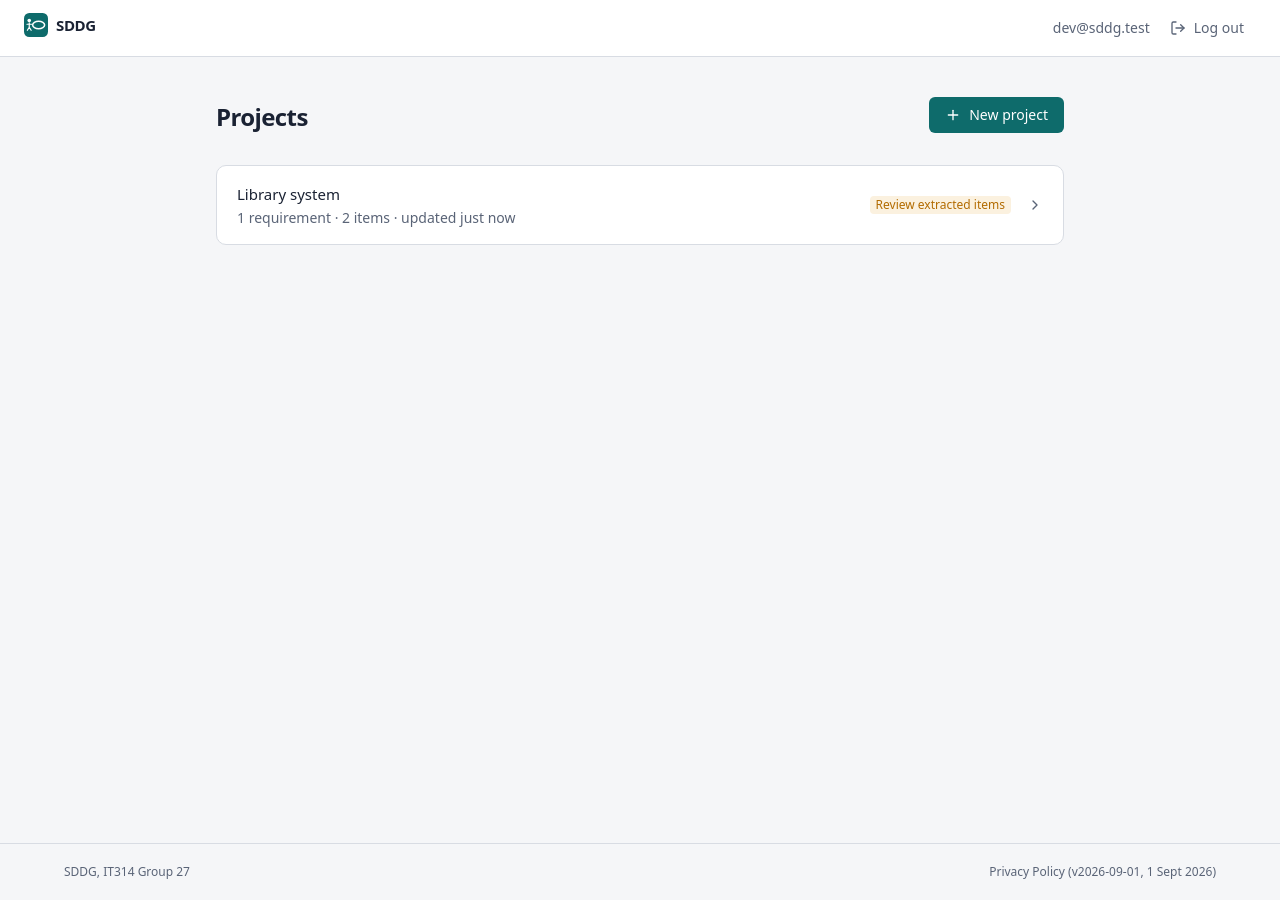
Test: FR3c / FR3a projects › shows the server message for a duplicate name
Click the button "New project" at (997, 115), box x1=929 y1=97 x2=1064 y2=133
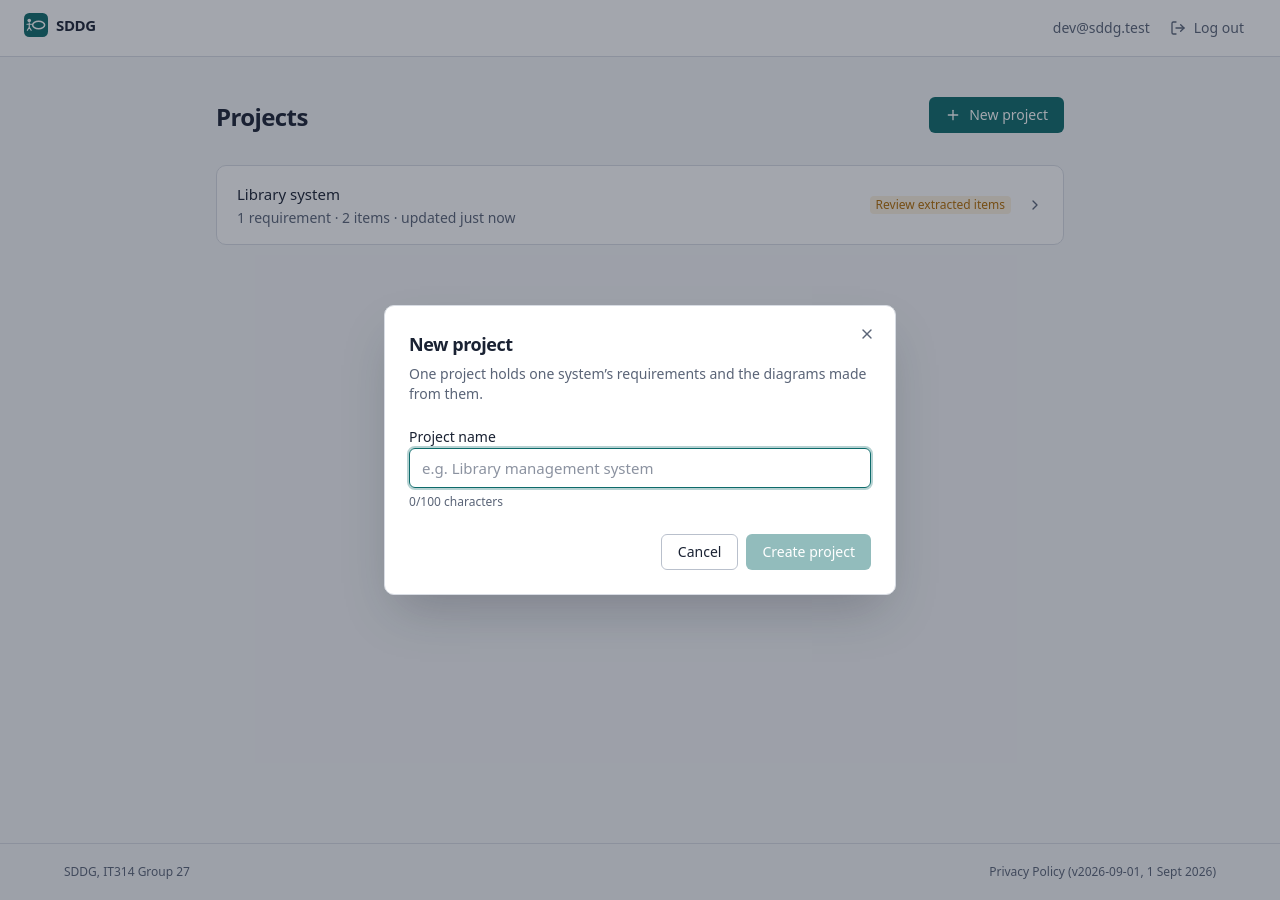
Type "library system" into the field labelled "Project name" at (640, 468), box x1=409 y1=448 x2=871 y2=488
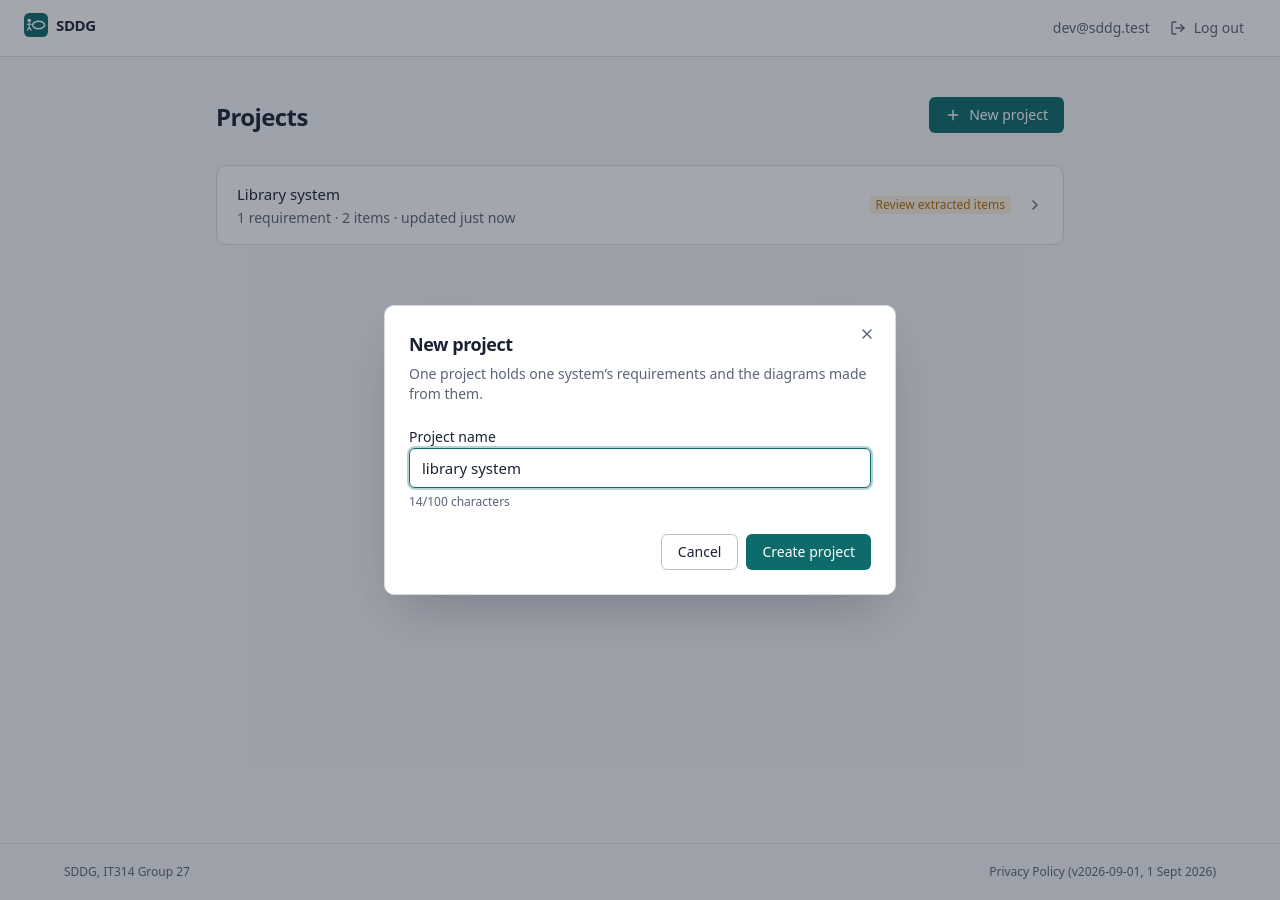
Click the button "Create project" at (809, 552), box x1=746 y1=534 x2=871 y2=570
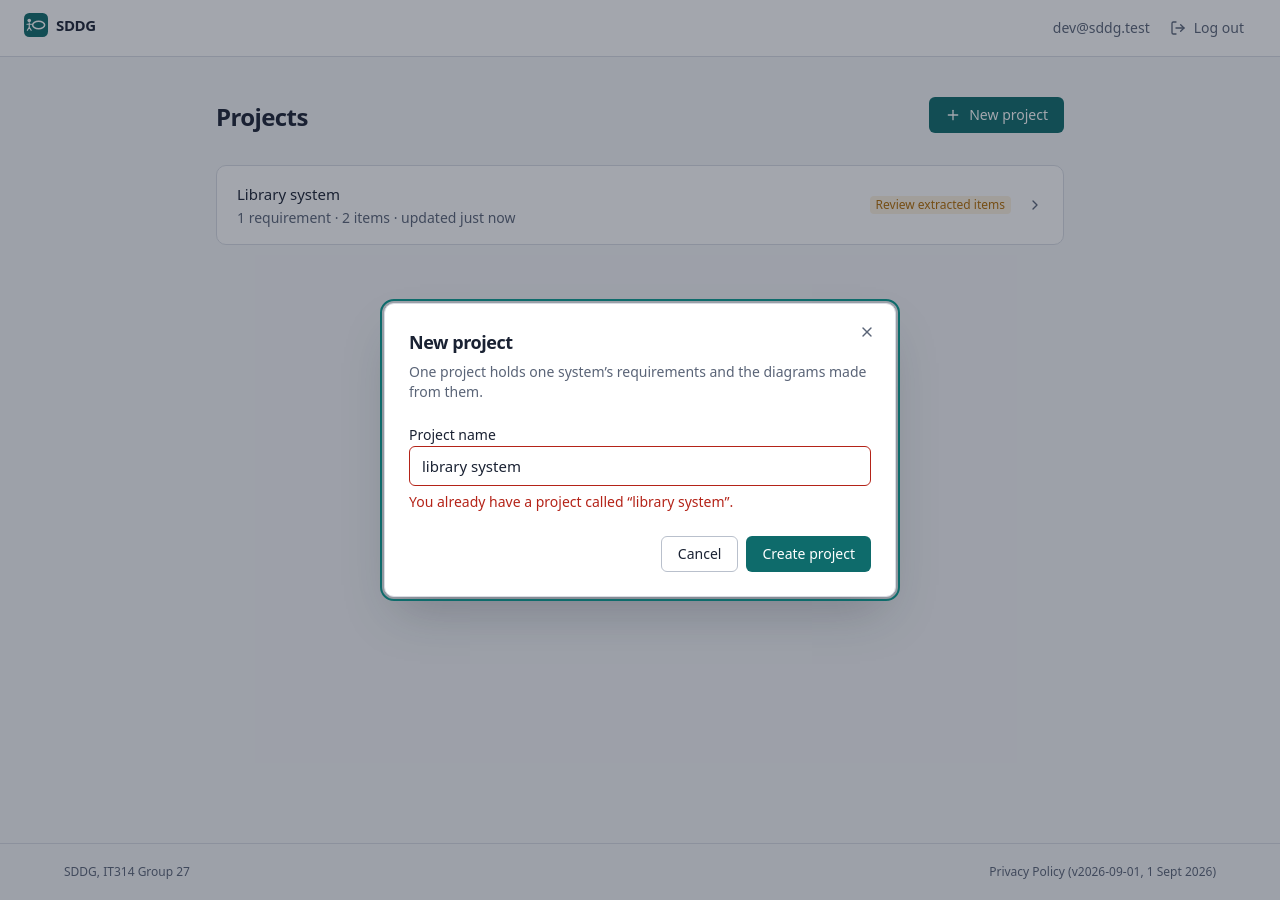
Expected: the text "You already have a project called “library system”." is shown, x1=409 y1=492 x2=733 y2=511
